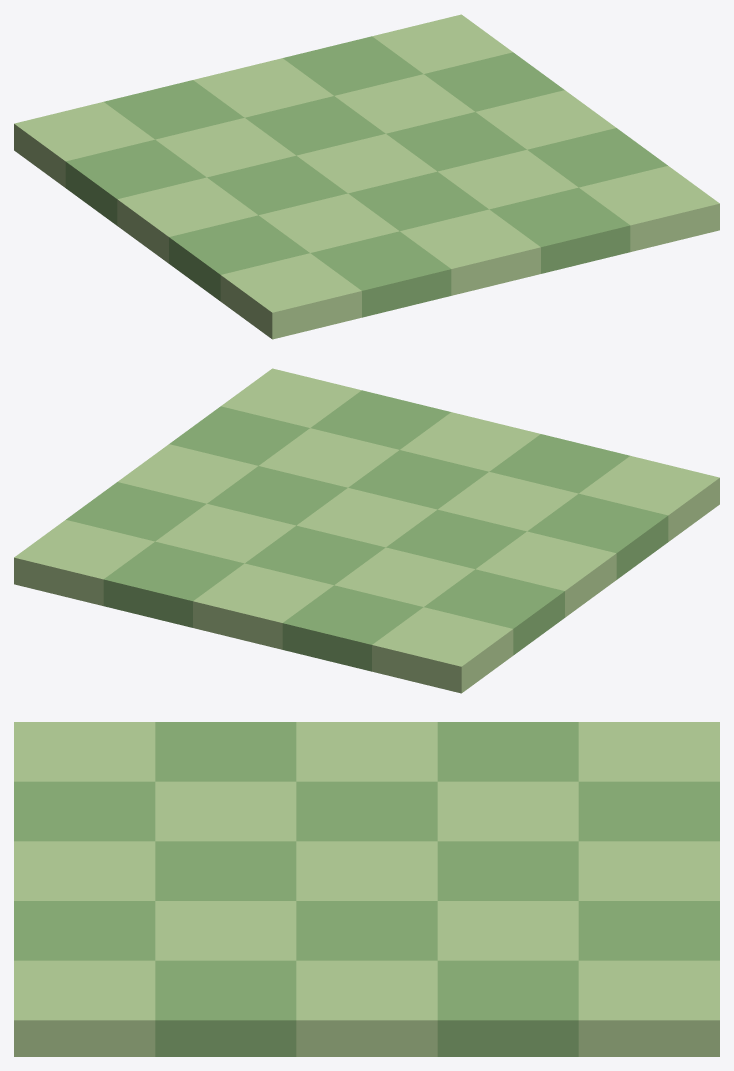
Rendered from FarmGrid.obj.
3 views of the same model, one above another, from view 1: azimuth 30°, elevation 25°; view 2: azimuth 150°, elevation 25°; view 3: azimuth 270°, elevation 25° (orthographic). The views are drawn at different scales.
Size of the model in its own units: 3.5 by 0.2 by 3.5.
Materials: 1 (1 with a texture image).
